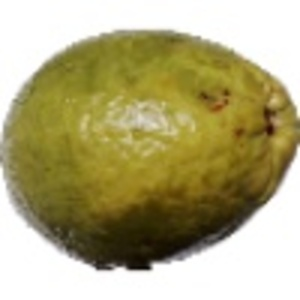goiaba: (1, 20, 297, 277)
